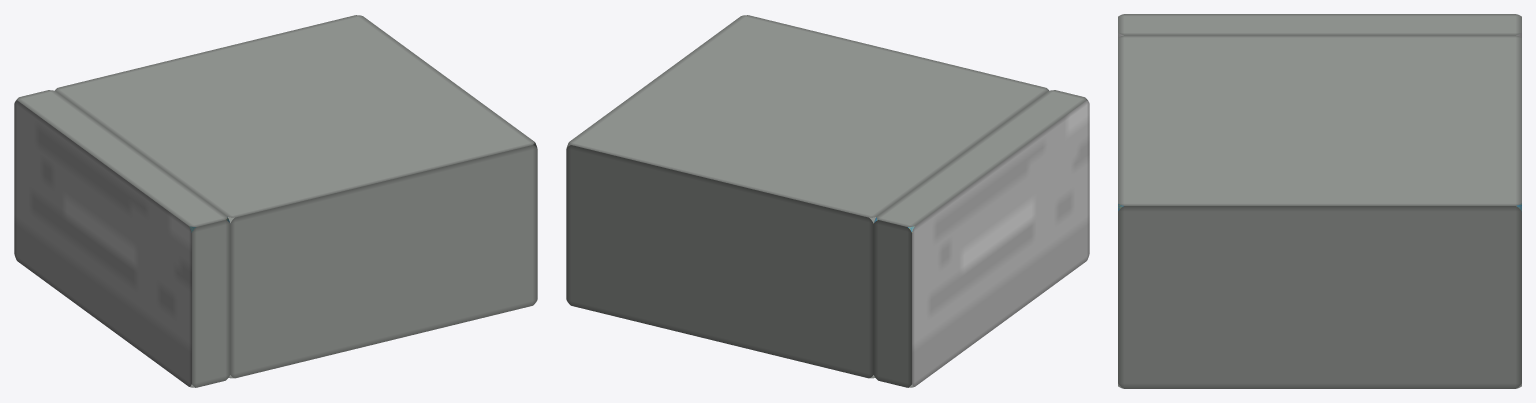
File: df4d_floor_b.obj
3 views of the same model, side by side, from view 1: azimuth 30°, elevation 25°; view 2: azimuth 150°, elevation 25°; view 3: azimuth 270°, elevation 25° (orthographic). The views are drawn at different scales.
Parts seen in each view (by area): view 1: df4d_floor_b; view 2: df4d_floor_b; view 3: df4d_floor_b.
Part boxes in pixels (x1=…): df4d_floor_b: x1=14, y1=15, x2=537, y2=387; df4d_floor_b: x1=566, y1=15, x2=1089, y2=387; df4d_floor_b: x1=1118, y1=14, x2=1521, y2=388.
Bounding box in the file's own units: 1.12 × 0.5 × 1.
